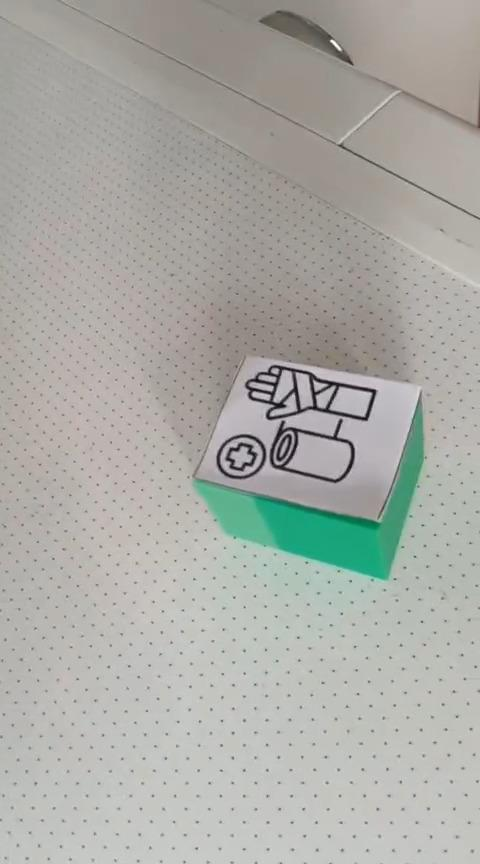Bandages: (194, 355, 425, 580)
